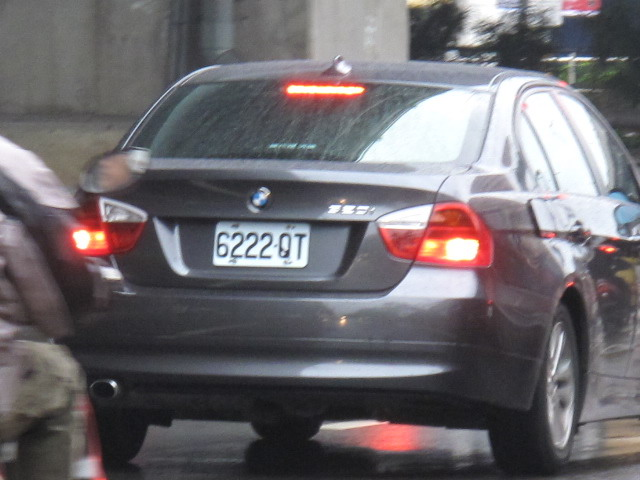plate: (214, 218, 314, 269)
